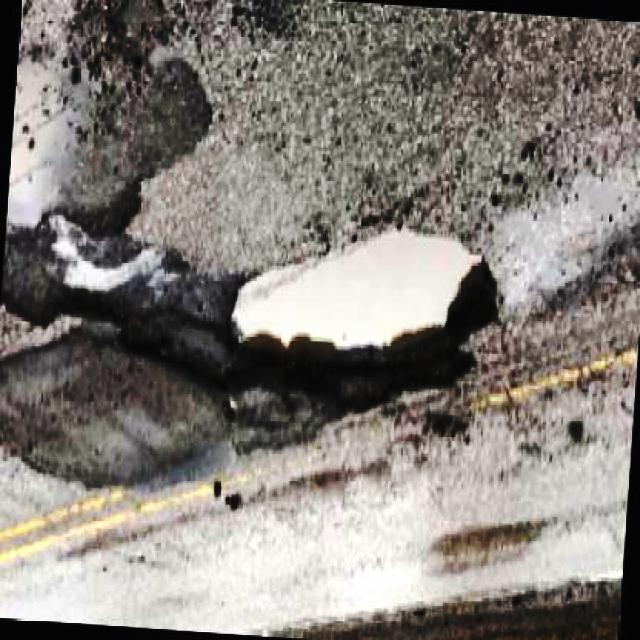pothole: (228, 218, 504, 420), (0, 210, 238, 395)
